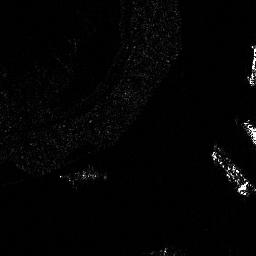ship: (210, 151, 247, 195)
